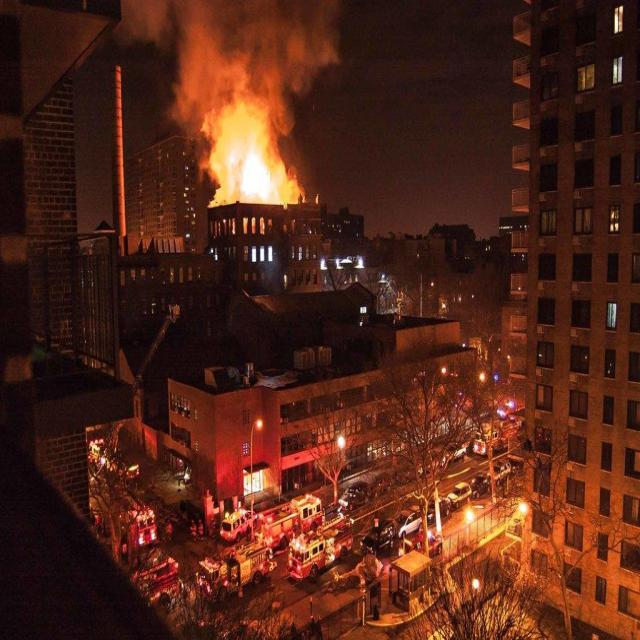Fire: (196, 73, 313, 227)
